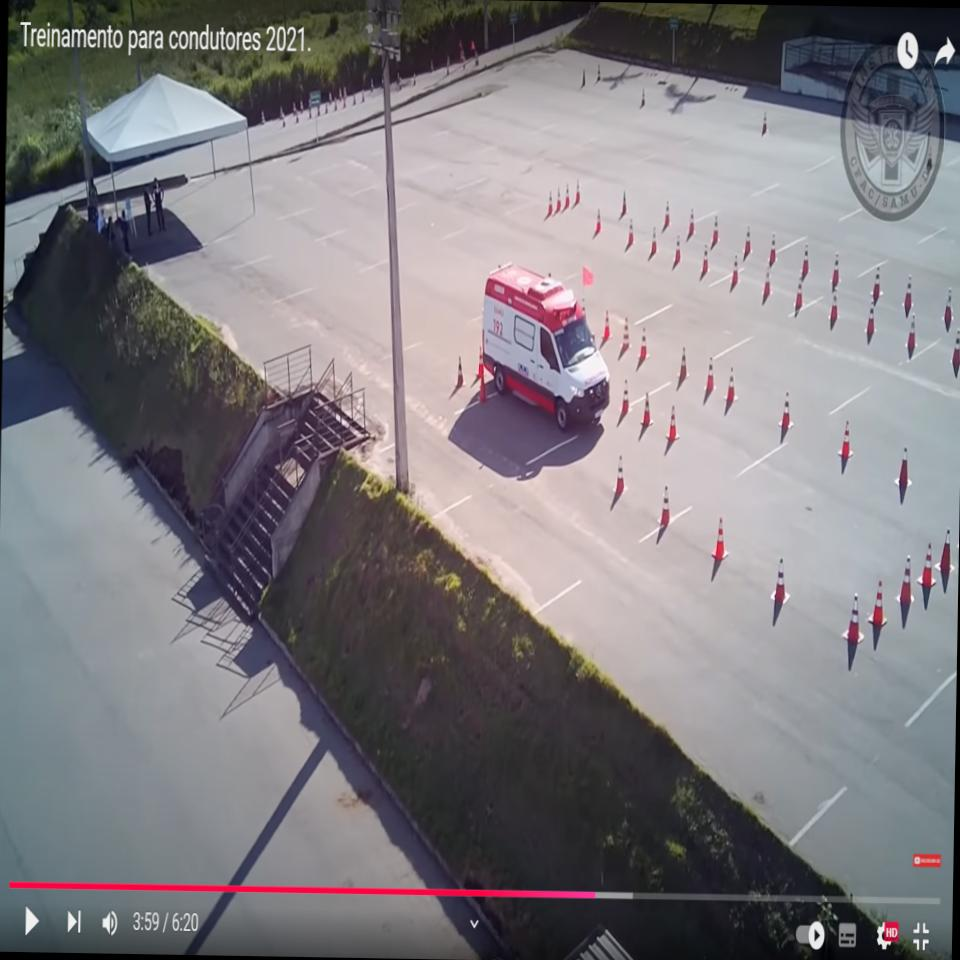bombeiro: (478, 252, 618, 434)
